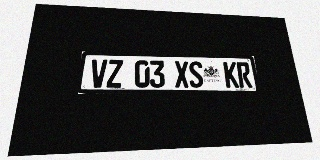0: (134, 60, 149, 88)
3: (150, 60, 165, 88)
K: (223, 62, 239, 88)
R: (236, 62, 253, 88)
S: (188, 61, 204, 88)
V: (90, 59, 107, 88)
X: (174, 61, 189, 88)
Z: (106, 60, 123, 88)
